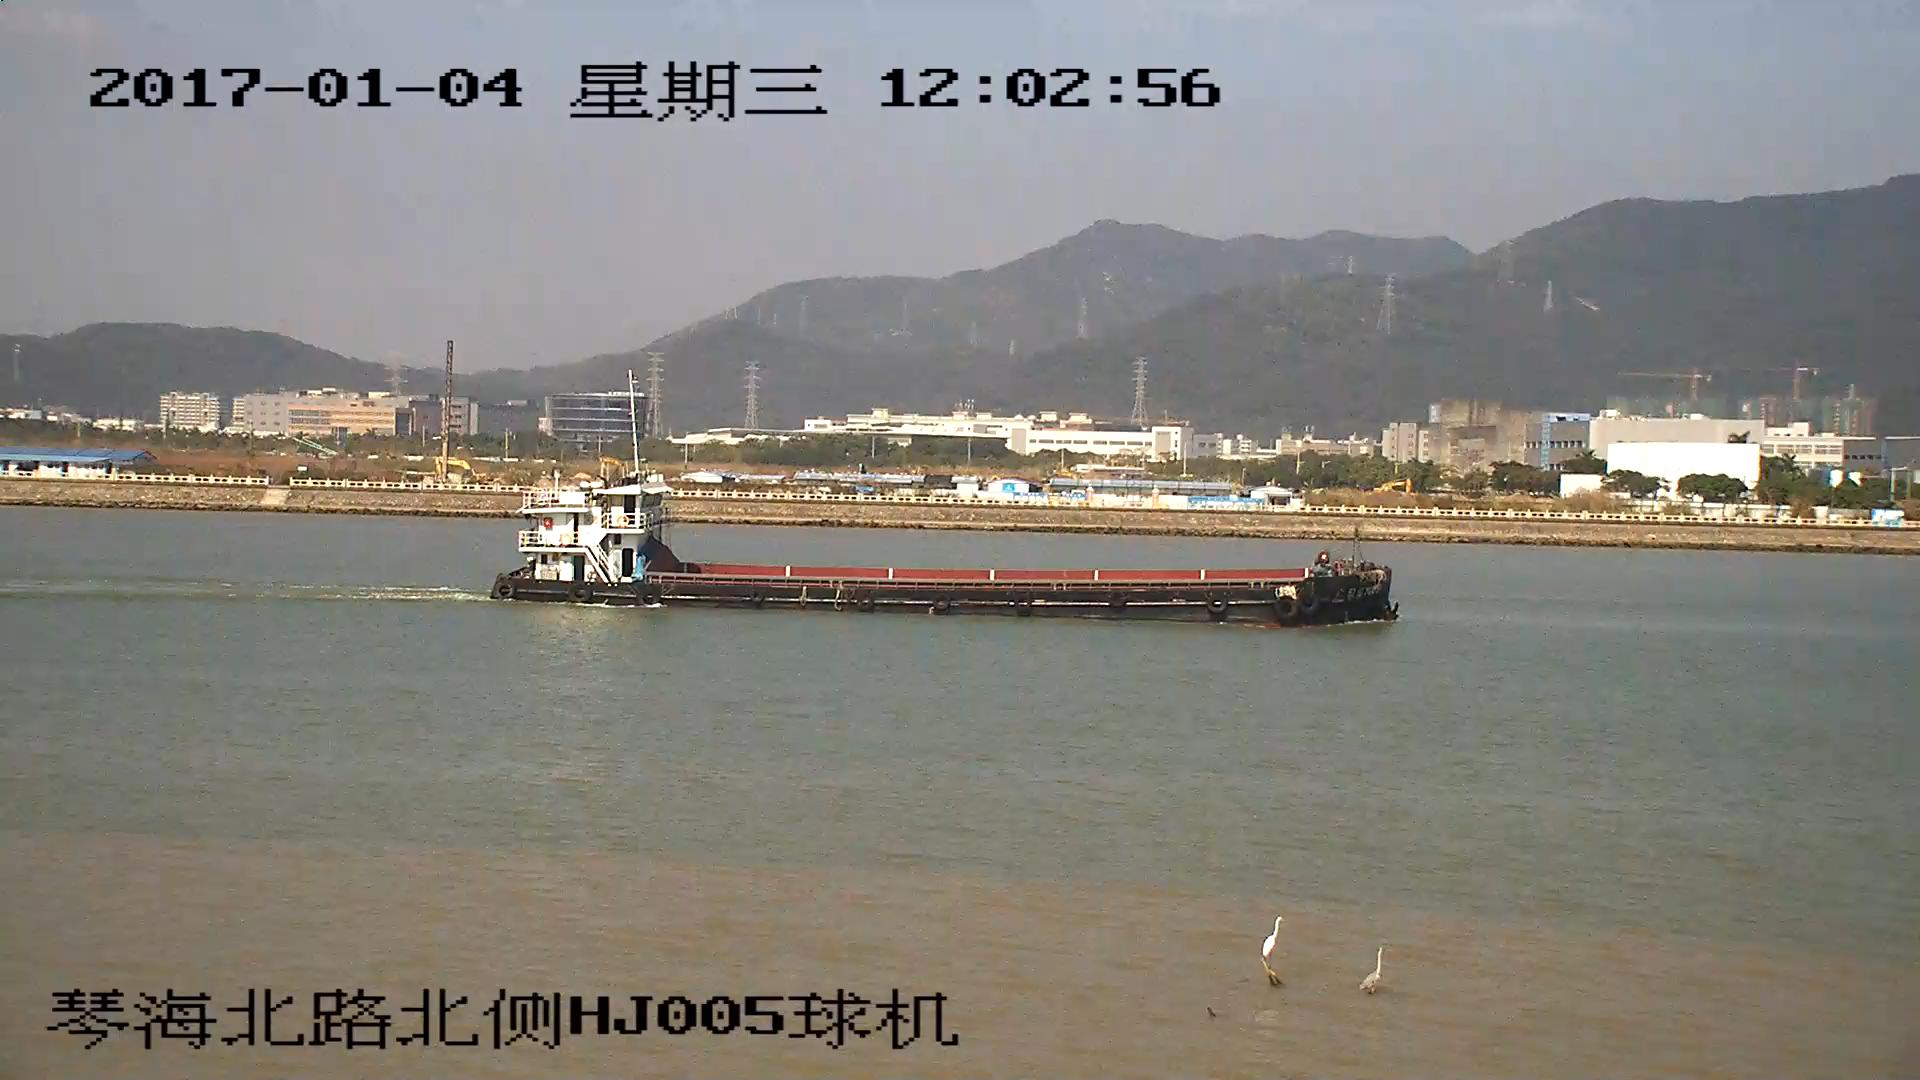general cargo ship: (490, 487, 1401, 629)
